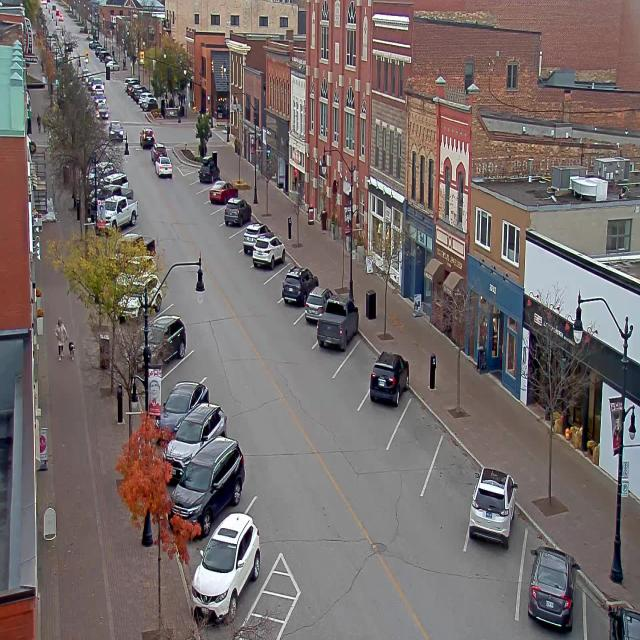available: (394, 388, 445, 468), (422, 428, 472, 508), (162, 342, 211, 389), (341, 331, 379, 390), (266, 263, 284, 300), (231, 222, 247, 255), (196, 181, 212, 206), (212, 202, 224, 228), (185, 169, 198, 185)
occupied: (190, 507, 268, 620), (168, 435, 246, 538), (527, 545, 579, 631), (468, 466, 518, 547), (155, 379, 209, 442), (171, 397, 234, 447), (586, 586, 638, 640), (316, 296, 358, 352), (142, 313, 188, 363), (368, 350, 408, 406), (282, 265, 318, 304), (252, 232, 285, 269), (301, 283, 330, 322), (240, 218, 264, 262), (224, 197, 252, 226), (197, 159, 220, 182), (211, 182, 234, 204)
